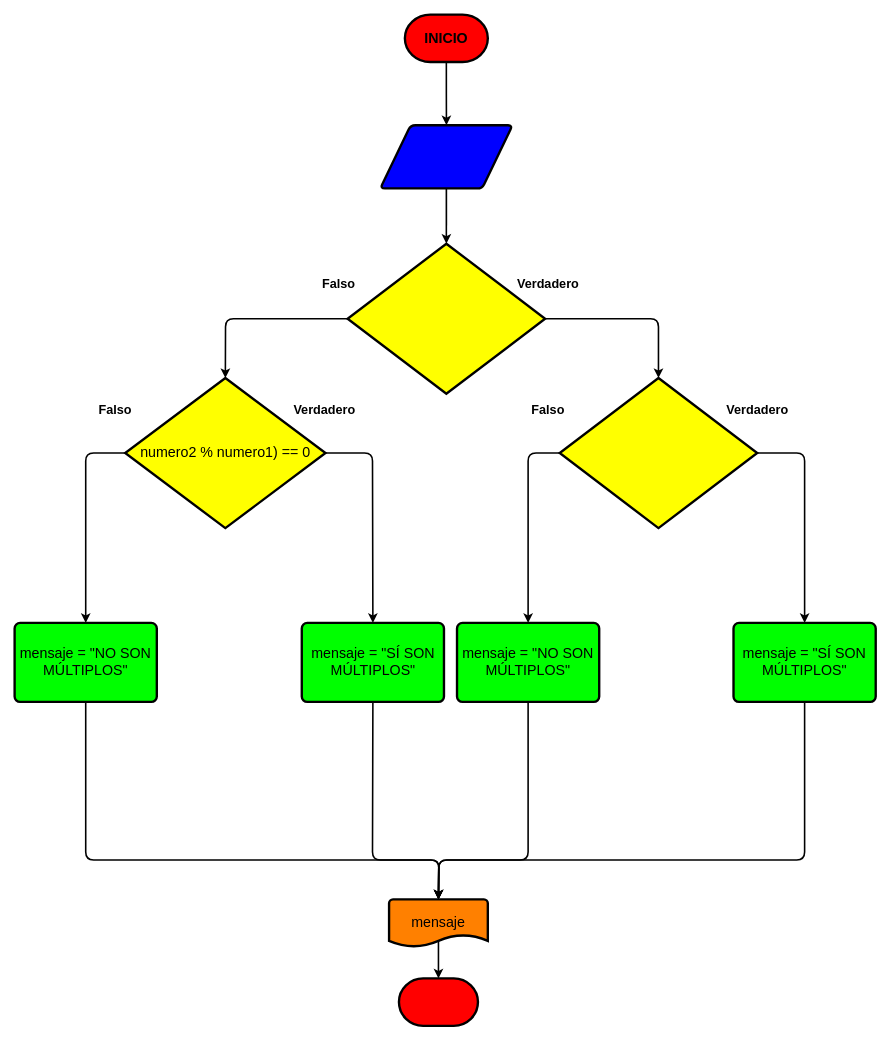
Some shapes in this 890 by 1040 pixel diagram are drawn without their labels. The shapes that lost their labels are listed below. From the top down, each one's centre as x and y in pixels, then its label:
At point (446, 156): "numero1 numero2".
At point (446, 318): "numero1 > numero2".
At point (658, 452): "numero1 % numero2 == 0".
At point (438, 1002): "FIN".
